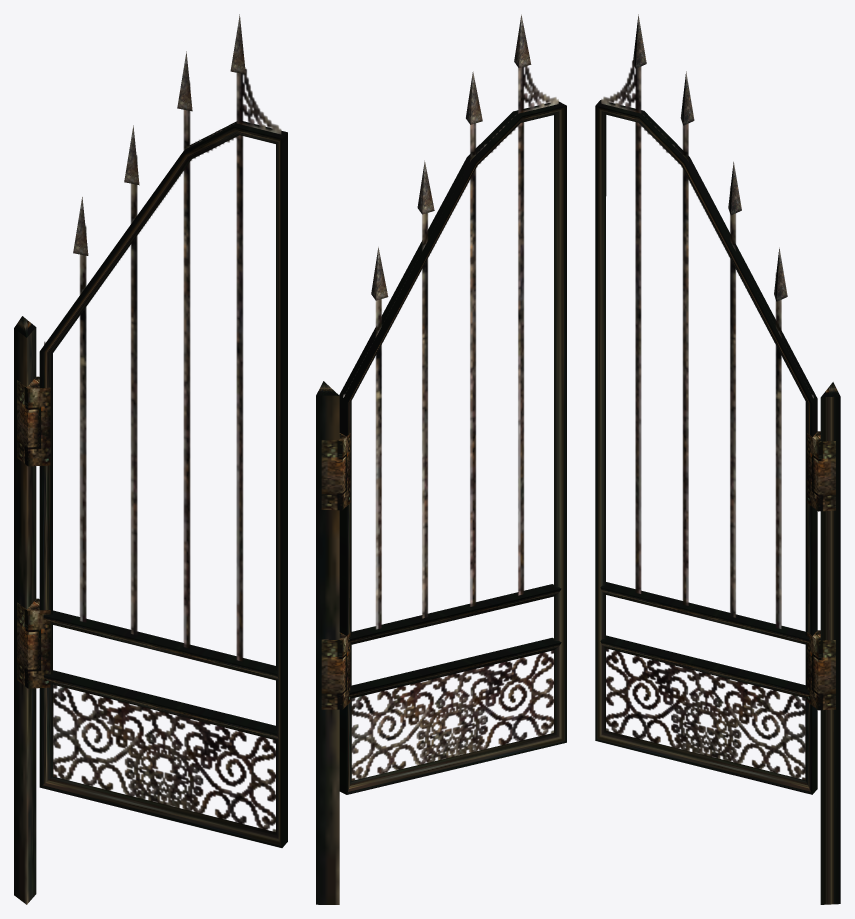
File: cem_doorl.glb
3 renders of one model, left to right at view 1: azimuth 90°, elevation 25°; view 2: azimuth 150°, elevation 25°; view 3: azimuth 270°, elevation 25°, orthographic. The views are drawn at different scales.
Visible parts, largest first — view 1: cem_doorl-col; view 2: cem_doorl-col; view 3: cem_doorl-col.
Part boxes in pixels (x1,y1,x2,y2): cem_doorl-col: [14, 14, 287, 904]; cem_doorl-col: [316, 14, 566, 904]; cem_doorl-col: [595, 14, 840, 904].
Bounding box in the file's own units: 0.8167 × 4.95 × 1.31.
Materials: 2 (2 with a texture image).
